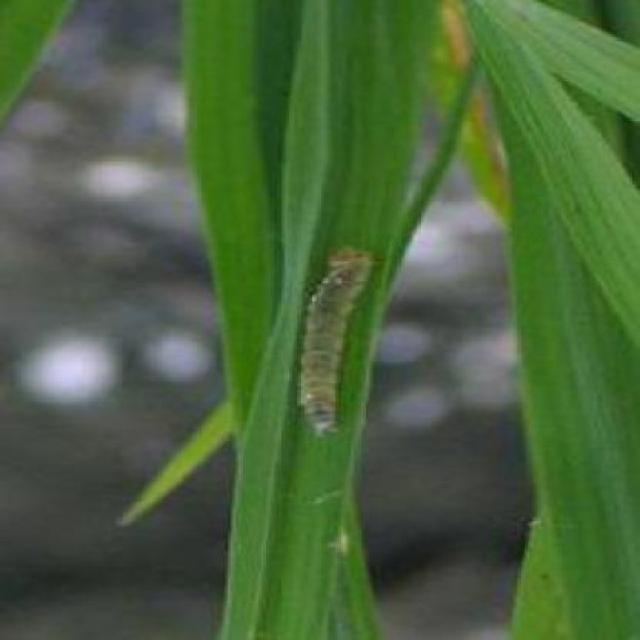leaf-folder: (259, 231, 392, 440)
